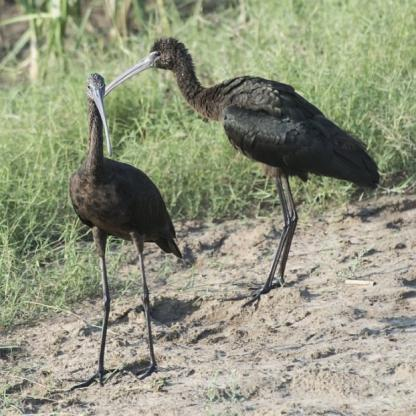Burung: (101, 36, 384, 314), (66, 74, 187, 380)
